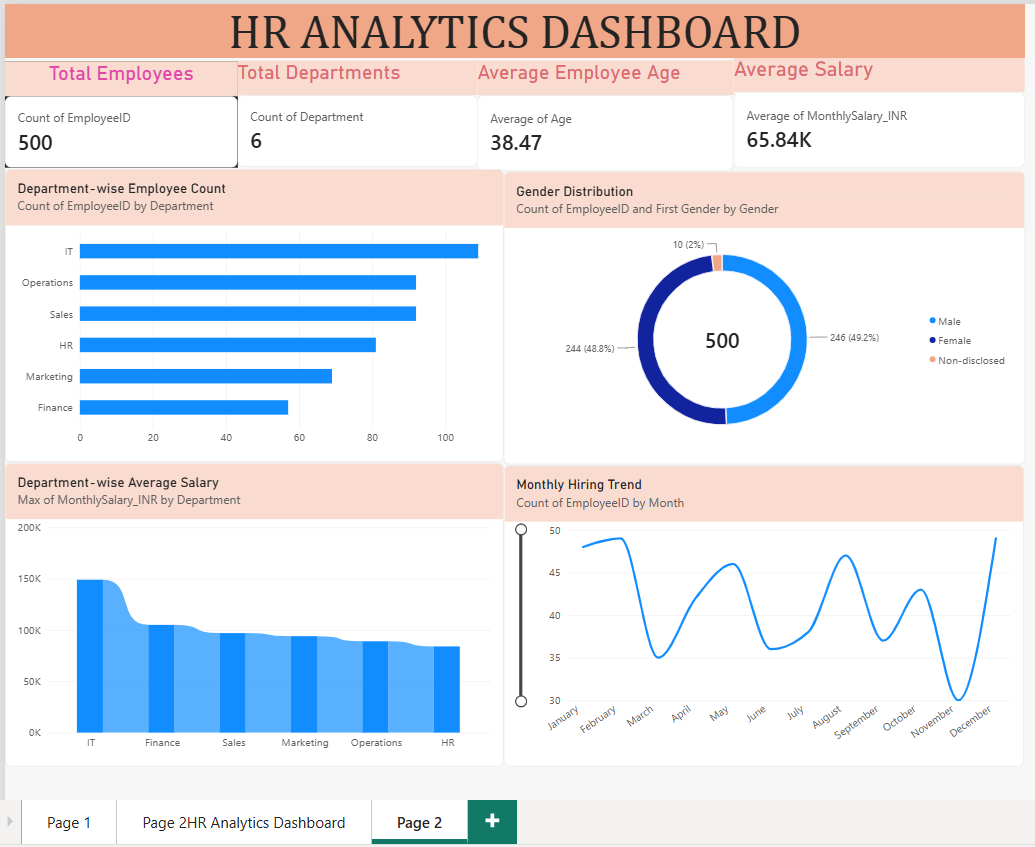

The page's visual inventory and layout, read from the dashboard file:
{"tool":"powerbi","page":{"name":"Page 2HR Analytics Dashboard","canvas":[1384,709],"ordinal":1},"visuals":[{"type":"lineChart","title":"Monthly Hiring Trend","fields":{"Category":["Employees.HireDate.Variation.Date Hierarchy.Month"],"Y":["CountNonNull(Employees.EmployeeID)"]},"box":[503.3,451.7,503.3,256.7],"z":0},{"type":"ribbonChart","title":"Department-wise Average Salary","fields":{"Category":["Employees.Department"],"Y":["Max(Employees.MonthlySalary_INR)"]},"box":[0,451.7,503.3,256.7],"z":1000},{"type":"barChart","title":"Department-wise Employee Count","fields":{"Category":["Employees.Department"],"Y":["CountNonNull(Employees.EmployeeID)"]},"box":[0,220,503.3,231.7],"z":2000},{"type":"donutChart","title":"Gender Distribution ","fields":{"Category":["Employees.Gender"],"Y":["CountNonNull(Employees.EmployeeID)"]},"box":[503.3,221.7,503.3,230],"z":3000},{"type":"cardVisual","title":"Total Employees","fields":{"Data":["Count(Employees.EmployeeID)"]},"box":[0,76.2,257.5,142.5],"z":4000},{"type":"cardVisual","title":"Average Salary","fields":{"Data":["Avg(Employees.MonthlySalary_INR)"]},"box":[778.3,73.3,228.8,153.8],"z":5000},{"type":"cardVisual","title":"Total Departments","fields":{"Data":["Count(Employees.Department)"]},"box":[258.3,80,235,143.3],"z":6000},{"type":"cardVisual","title":"Average Employee Age","fields":{"Data":["Avg(Employees.Age)"]},"box":[493.3,73.3,285,148.8],"z":7000},{"type":"textbox","box":[1424,31,150,150],"z":8000},{"type":"textbox","box":[1649,26,150,150],"z":9000},{"type":"textbox","title":"HR ANALYTICS DASHBOARD","box":[0,0,1033.7,71.9],"z":10000}]}

Visuals, with their boxes on the page's 1384x709 design canvas (x1, y1, x2, y2). These are canvas units, not pixel positions in the 1035x847 screenshot, which may show the page scaled, cropped or inside an application window:
"Monthly Hiring Trend" lineChart: (503,452,1007,708)
"Department-wise Average Salary" ribbonChart: (0,452,503,708)
"Department-wise Employee Count" barChart: (0,220,503,452)
"Gender Distribution " donutChart: (503,222,1007,452)
"Total Employees" cardVisual: (0,76,258,219)
"Average Salary" cardVisual: (778,73,1007,227)
"Total Departments" cardVisual: (258,80,493,223)
"Average Employee Age" cardVisual: (493,73,778,222)
textbox: (1424,31,1574,181)
textbox: (1649,26,1799,176)
"HR ANALYTICS DASHBOARD" textbox: (0,0,1034,72)
